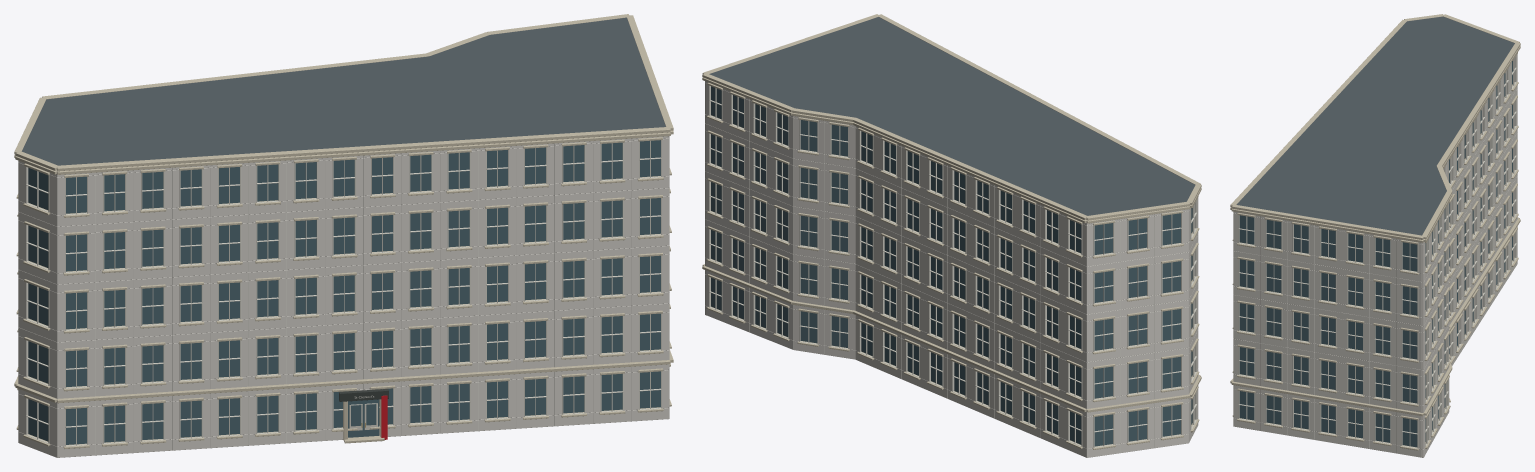
File: stc-exterior-5995098d9532.glb
3 views of the same model, side by side, from view 1: azimuth 30°, elevation 25°; view 2: azimuth 150°, elevation 25°; view 3: azimuth 270°, elevation 25° (orthographic). The views are drawn at different scales.
Visible parts, largest first — view 1: STC.001; view 2: STC.001; view 3: STC.001.
Boxes of the visible parts, box(x1,y1,x2,y2) form: STC.001: box(14, 14, 673, 457); STC.001: box(702, 14, 1201, 457); STC.001: box(1230, 14, 1520, 457).
Bounding box in the file's own units: 45.96 × 21.15 × 25.17.
